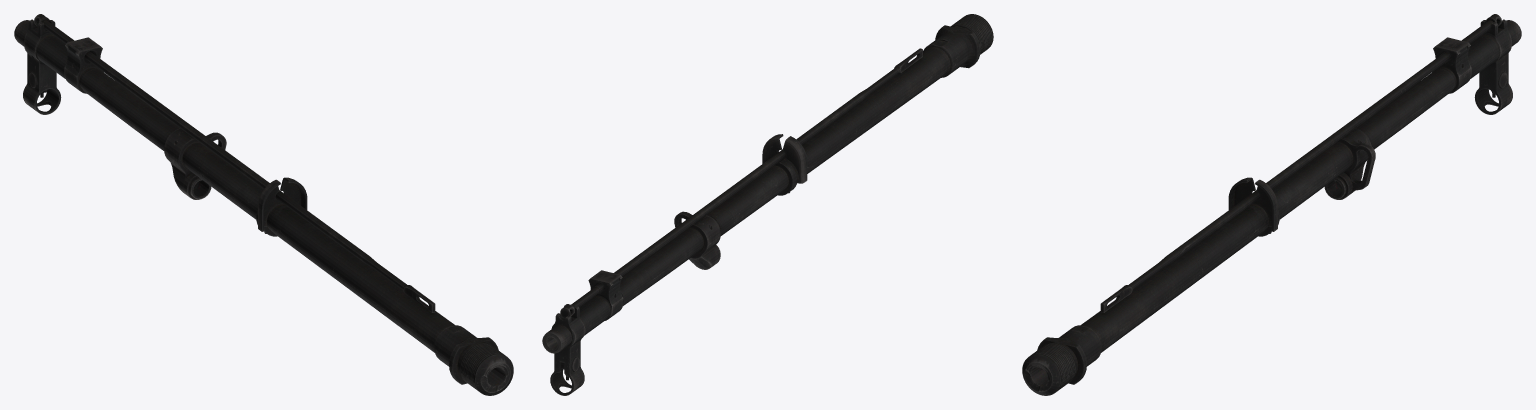
3 views of the same model, side by side, from view 1: azimuth 30°, elevation 25°; view 2: azimuth 150°, elevation 25°; view 3: azimuth 330°, elevation 25° (orthographic). The views are drawn at different scales.
Parts seen in each view (by area): view 1: TW_634f02331f9f536910079b51_PZ_Import; view 2: TW_634f02331f9f536910079b51_PZ_Import; view 3: TW_634f02331f9f536910079b51_PZ_Import.
Part boxes in pixels (box(x1,y1,x2,y2)): TW_634f02331f9f536910079b51_PZ_Import: box(14, 14, 513, 395); TW_634f02331f9f536910079b51_PZ_Import: box(542, 14, 993, 395); TW_634f02331f9f536910079b51_PZ_Import: box(1022, 14, 1521, 395).
Size of the model in its own units: 0.0202 by 0.2999 by 0.0373.
Materials: 1 (1 with a texture image).
